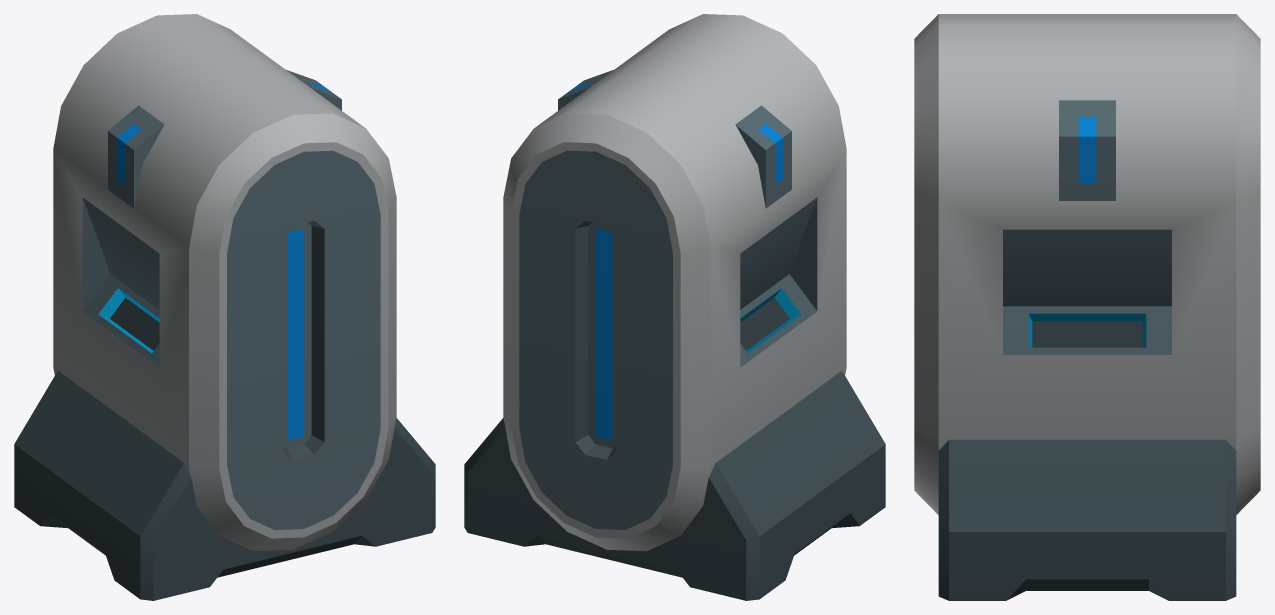
Rendered from Battery_003.fbx.
3 renders of one model, left to right at view 1: azimuth 30°, elevation 25°; view 2: azimuth 150°, elevation 25°; view 3: azimuth 270°, elevation 25°, orthographic. The views are drawn at different scales.
Visible parts, largest first — view 1: Battery_003; view 2: Battery_003; view 3: Battery_003.
Part boxes in pixels (x1,y1,x2,y2): Battery_003: (14, 14, 435, 600); Battery_003: (464, 14, 885, 600); Battery_003: (914, 14, 1260, 600).
Size of the model in its own units: 54 by 50 by 79.
